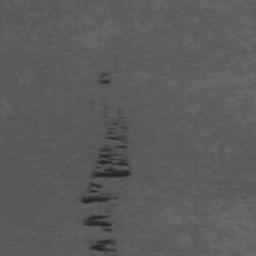Secondary rust skin: (91, 121, 132, 179), (80, 182, 118, 204), (83, 214, 113, 232), (89, 239, 117, 253), (99, 73, 111, 85)
